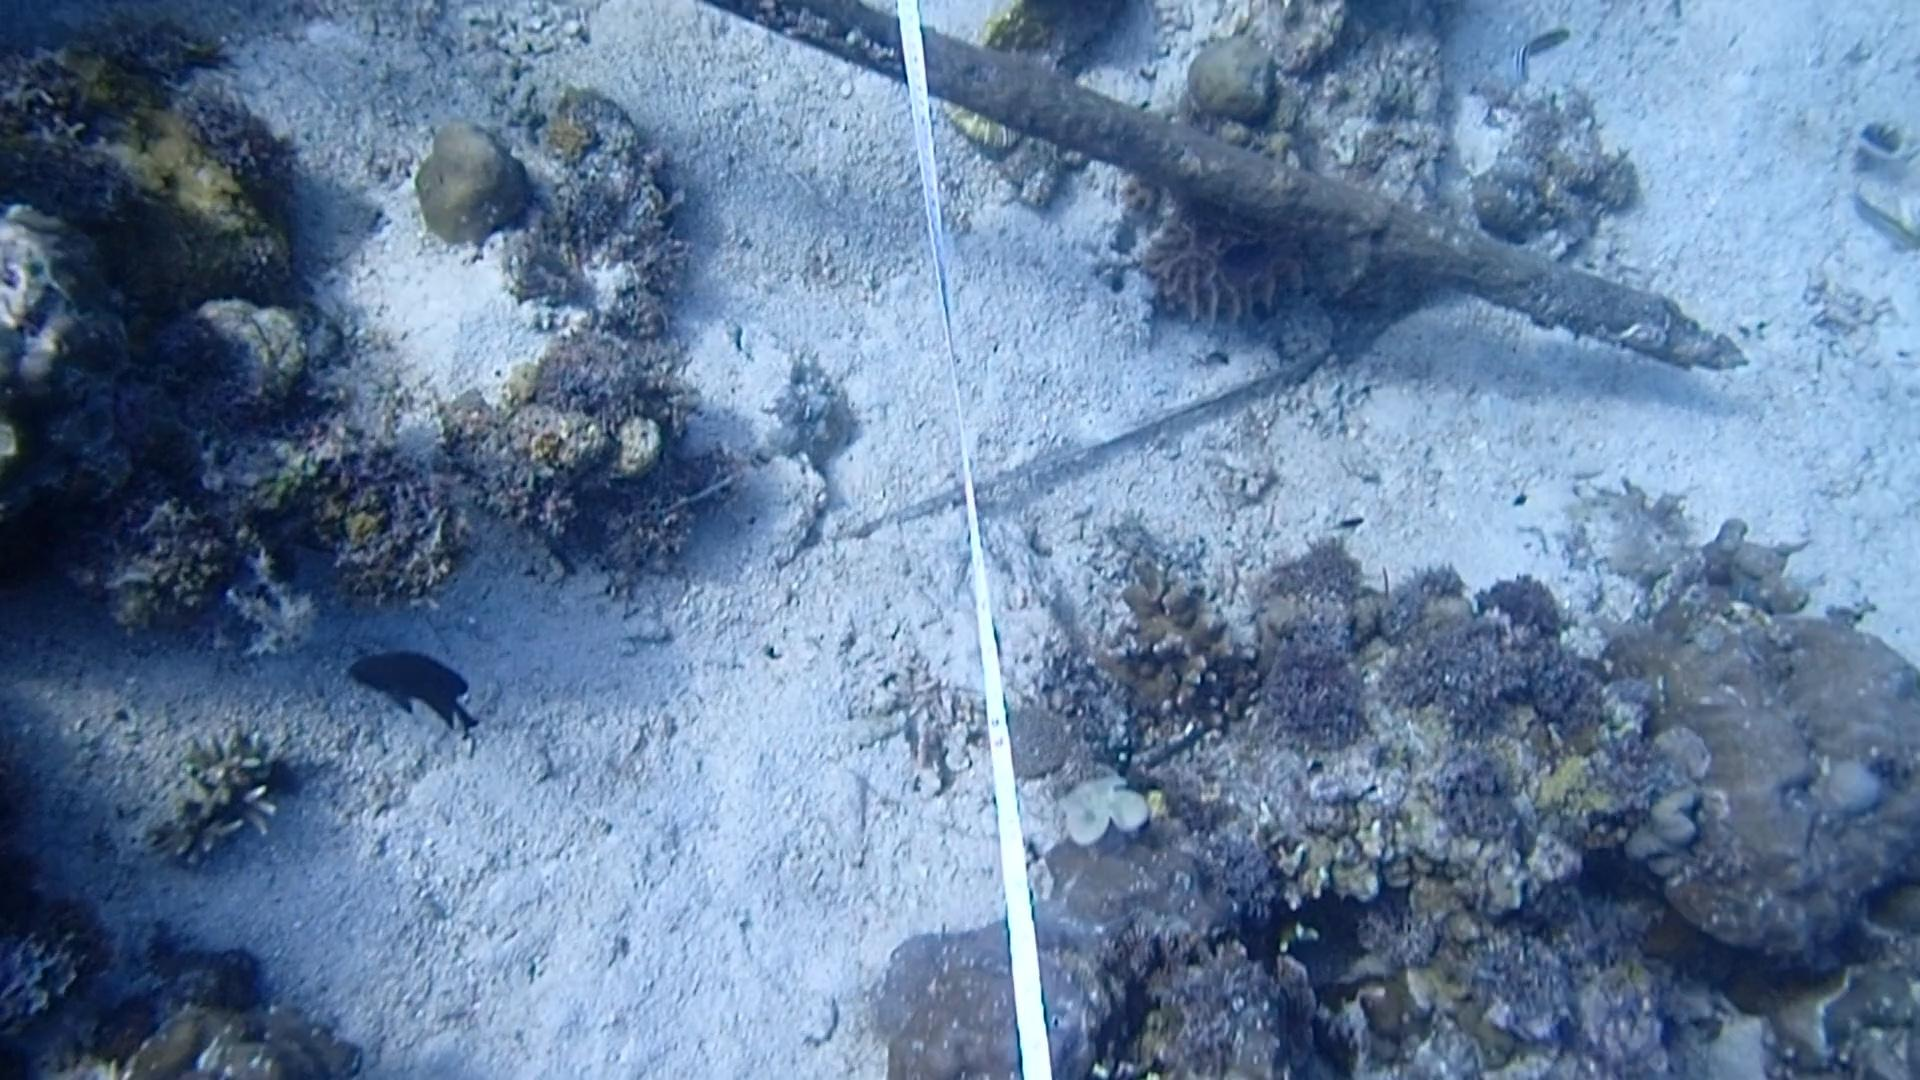Dark Fish: (334, 638, 485, 735)
Striped Fish: (1836, 165, 1920, 264), (1501, 15, 1569, 92)
